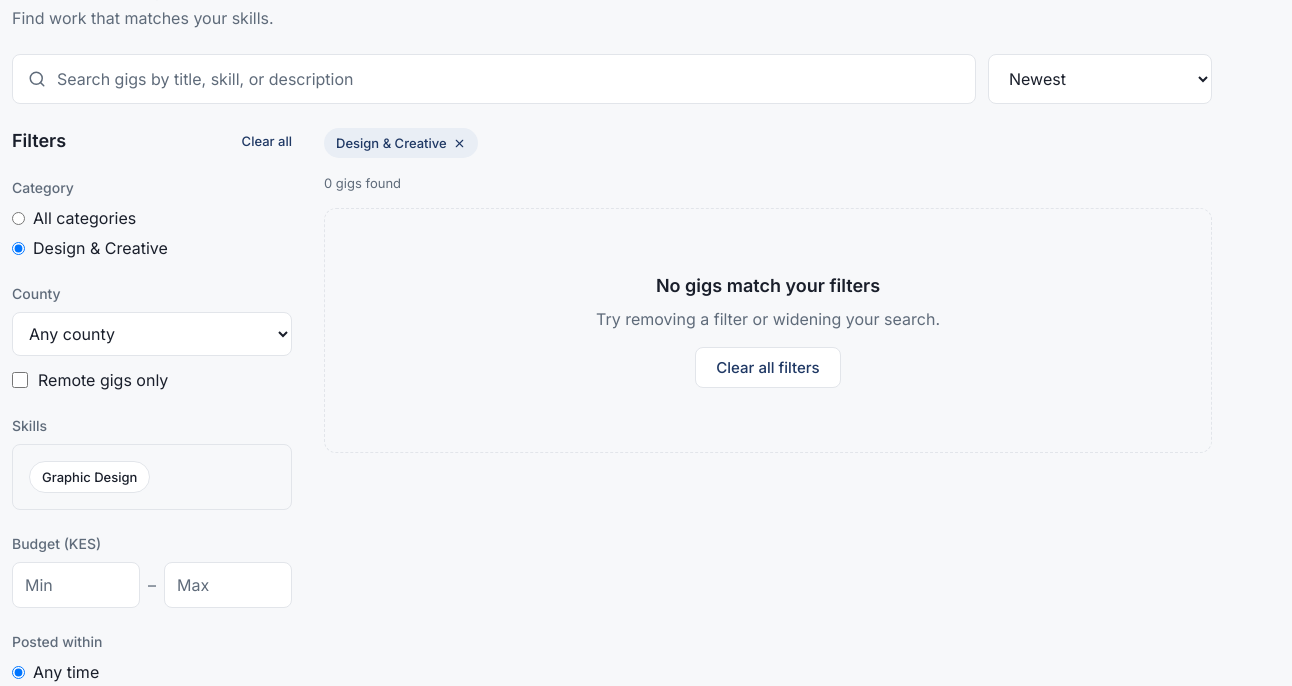
BrowseGigs URL state › removing a filter chip clears it from the URL
The width and height of the screenshot is (1292, 686).
Click the button "Design & Creative" at (401, 143), box top-left (324, 128), bottom-right (478, 158)
(page scrolled)
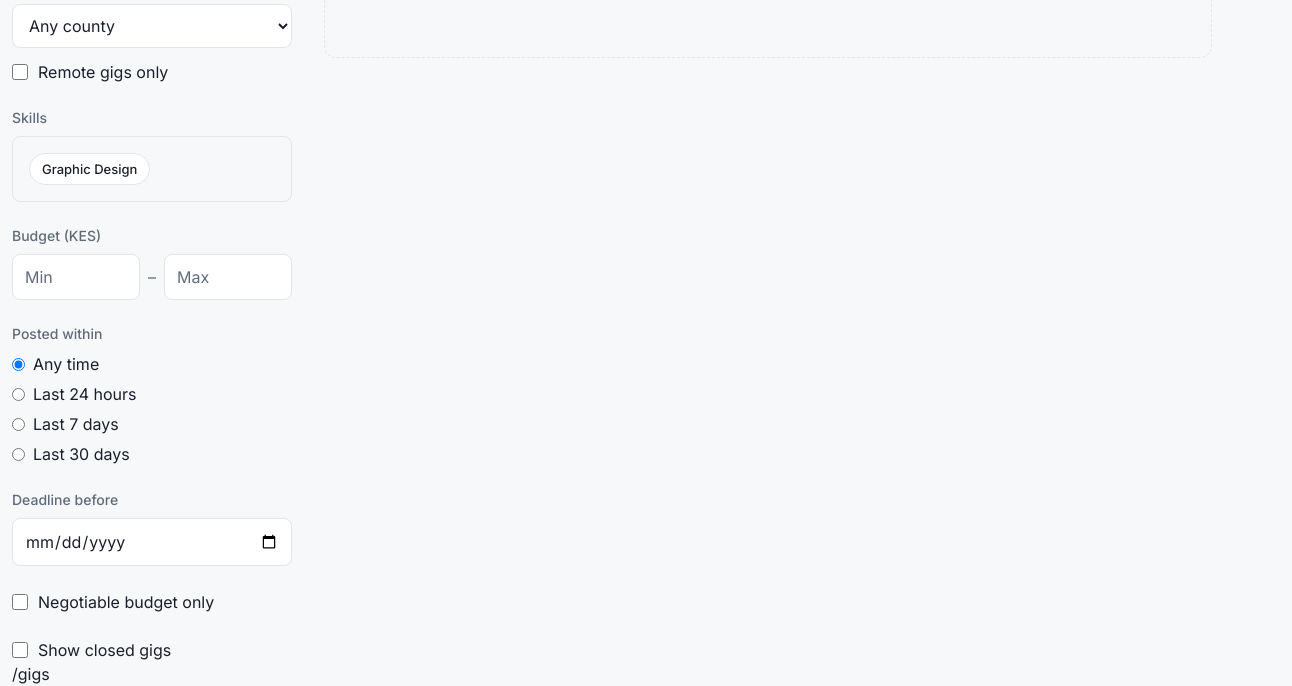
Now the text with test id "location" reads "/gigs", box top-left (12, 664), bottom-right (50, 684)
